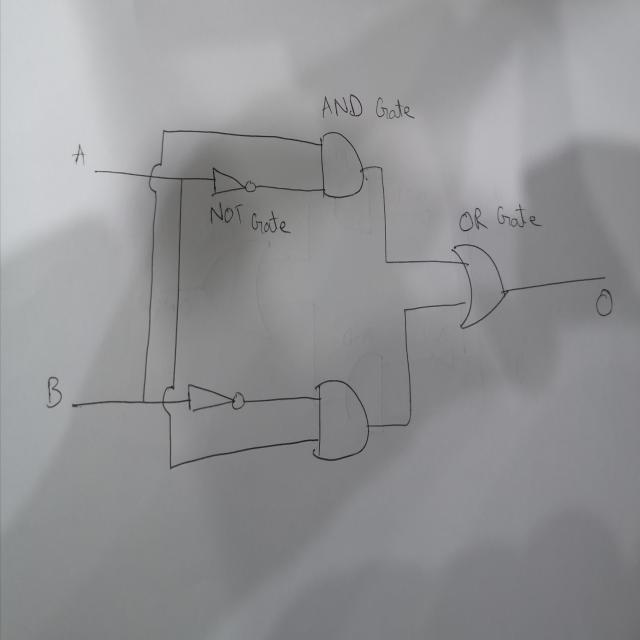crossover: (161, 383, 178, 418), (148, 160, 162, 196)
junction: (403, 414, 413, 430), (138, 393, 147, 409), (177, 172, 185, 186), (160, 125, 168, 138), (401, 304, 409, 316), (377, 161, 385, 173), (382, 256, 390, 266), (168, 462, 173, 472)
terminal: (91, 164, 101, 177), (598, 269, 608, 282), (70, 399, 78, 411)
text: (208, 198, 293, 236), (318, 92, 418, 123), (457, 202, 544, 234), (45, 372, 64, 410), (594, 286, 614, 319), (72, 140, 86, 169)
